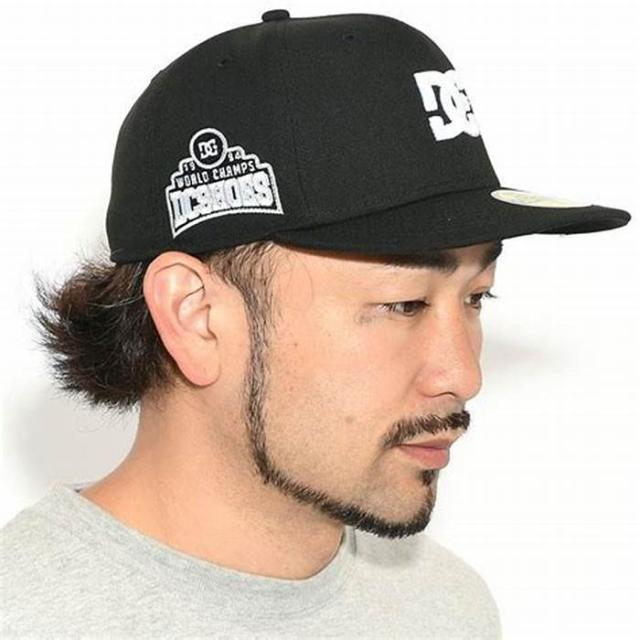illegal_helmet: (99, 5, 634, 545)
